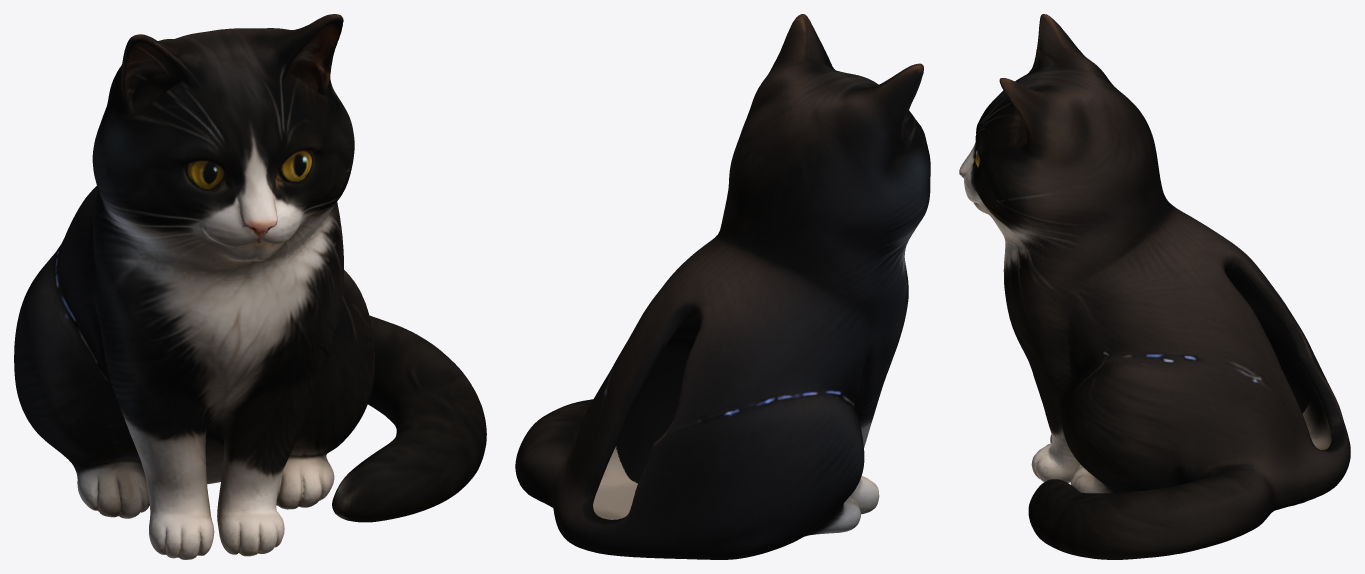
The model's file is tess-optimized.glb.
3 renders of one model, left to right at view 1: azimuth 30°, elevation 25°; view 2: azimuth 150°, elevation 25°; view 3: azimuth 270°, elevation 25°, orthographic. The views are drawn at different scales.
Visible parts, largest first — view 1: tmpzmfr5hrvobj; view 2: tmpzmfr5hrvobj; view 3: tmpzmfr5hrvobj.
Boxes of the visible parts, box(x1,y1,x2,y2) form: tmpzmfr5hrvobj: box(14, 14, 486, 559); tmpzmfr5hrvobj: box(515, 14, 930, 559); tmpzmfr5hrvobj: box(959, 14, 1350, 559).
Bounding box in the file's own units: 0.7863 × 1 × 0.8487.
Materials: 1 (1 with a texture image).
